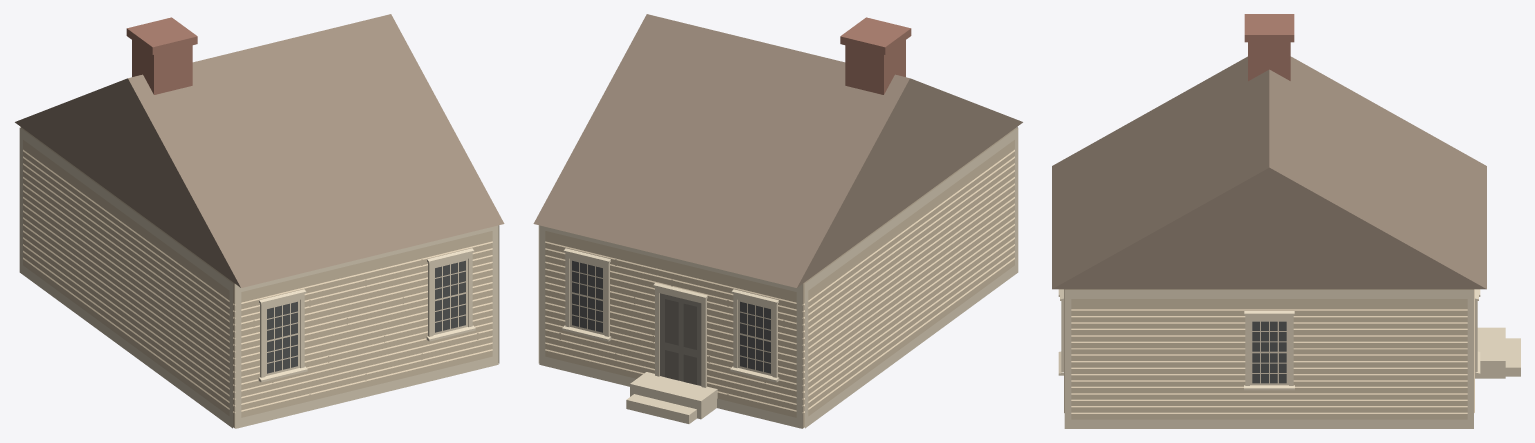
File: recon_1835_blk_randolph_clinton_d4_09__inferred_1835.glb
The picture shows the model from 3 angles, left to right: view 1: azimuth 30°, elevation 25°; view 2: azimuth 150°, elevation 25°; view 3: azimuth 270°, elevation 25°; orthographic projection. The views are drawn at different scales.
Visible parts, largest first — view 1: recon_1835_blk_randolph_clinton_d4_09__inferred_1835; view 2: recon_1835_blk_randolph_clinton_d4_09__inferred_1835; view 3: recon_1835_blk_randolph_clinton_d4_09__inferred_1835.
Boxes of the visible parts, x1=… form: recon_1835_blk_randolph_clinton_d4_09__inferred_1835: x1=15, y1=14, x2=504, y2=428; recon_1835_blk_randolph_clinton_d4_09__inferred_1835: x1=533, y1=14, x2=1022, y2=428; recon_1835_blk_randolph_clinton_d4_09__inferred_1835: x1=1052, y1=14, x2=1520, y2=428.
Size of the model in its own units: 5.89 by 6.44 by 9.22.
